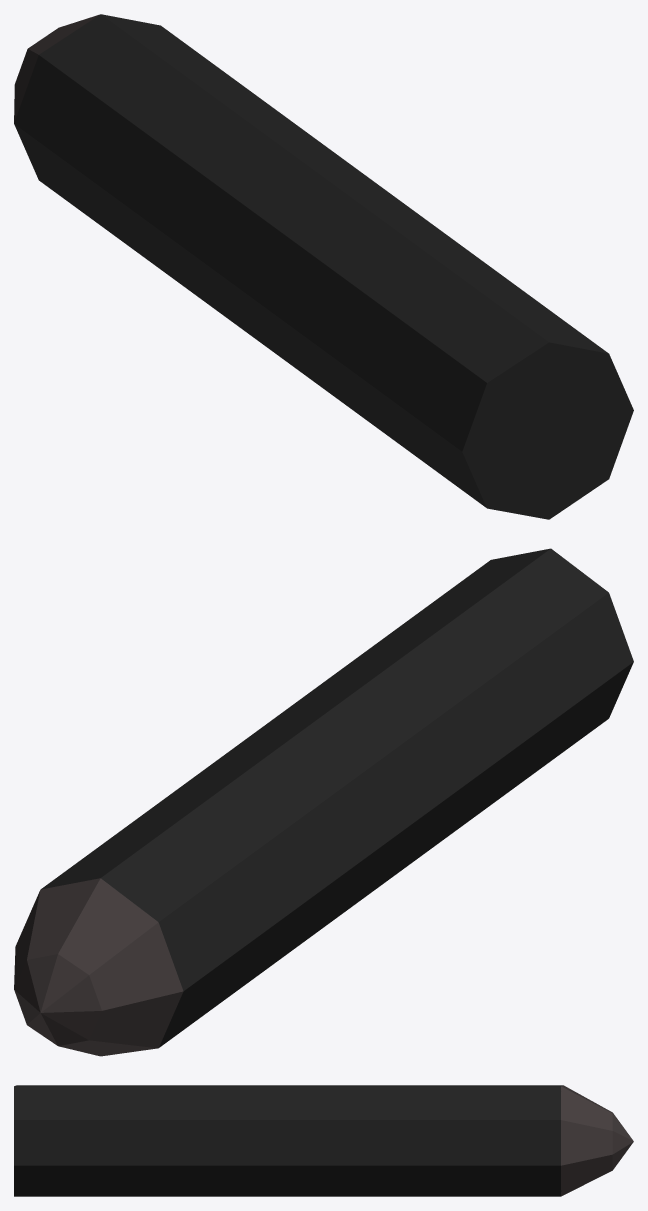
Rendered from bullet.fbx.
3 views of the same model, one above another, from view 1: azimuth 30°, elevation 25°; view 2: azimuth 150°, elevation 25°; view 3: azimuth 270°, elevation 25° (orthographic). The views are drawn at different scales.
Parts seen in each view (by area): view 1: Cylinder; view 2: Cylinder; view 3: Cylinder.
Boxes of the visible parts, x1=… form: Cylinder: x1=14, y1=14, x2=633, y2=519; Cylinder: x1=14, y1=548, x2=633, y2=1056; Cylinder: x1=14, y1=1085, x2=633, y2=1196.
Bounding box in the file's own units: 2 × 2 × 10.38.
